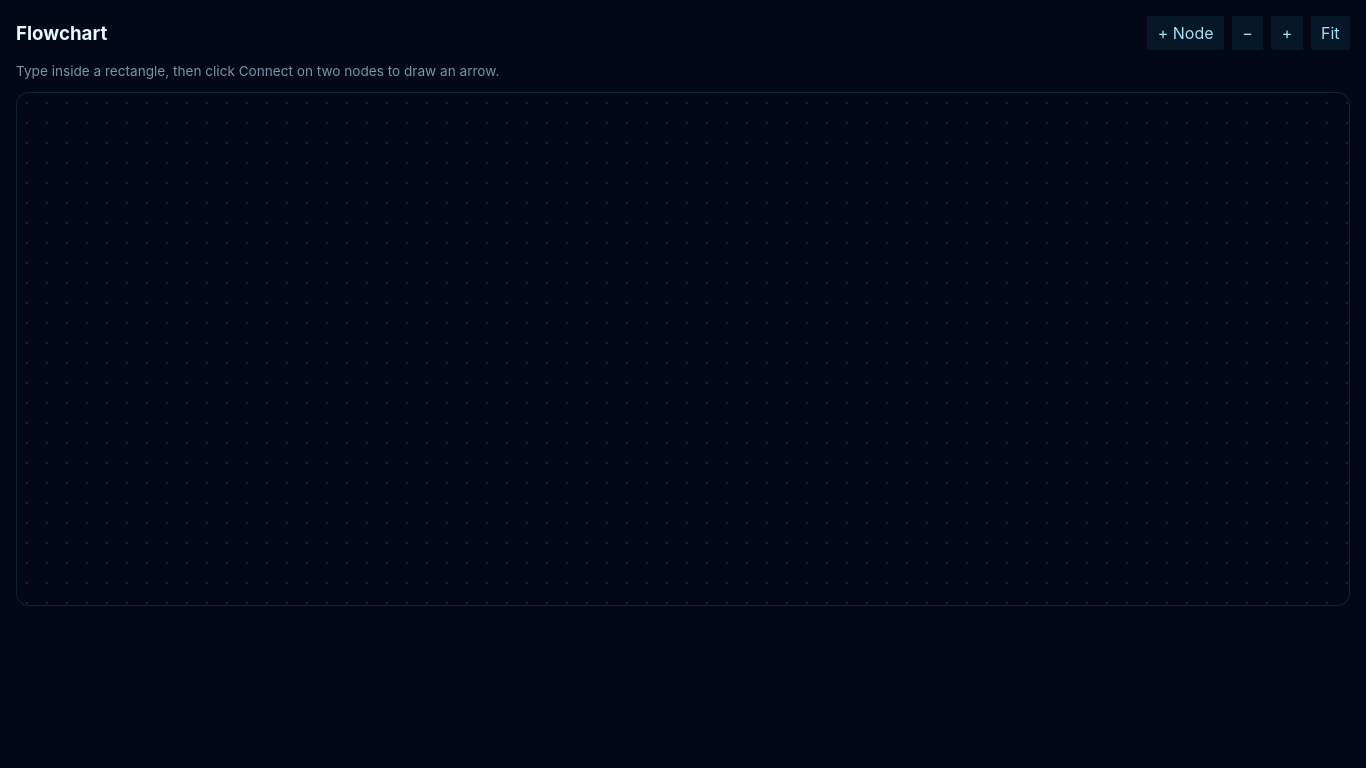
Test: project workspace modes › persists one flowchart node description across its compact and full-page editors
Click the button "+ Node" at (1186, 33), box [1147, 16, 1224, 50]
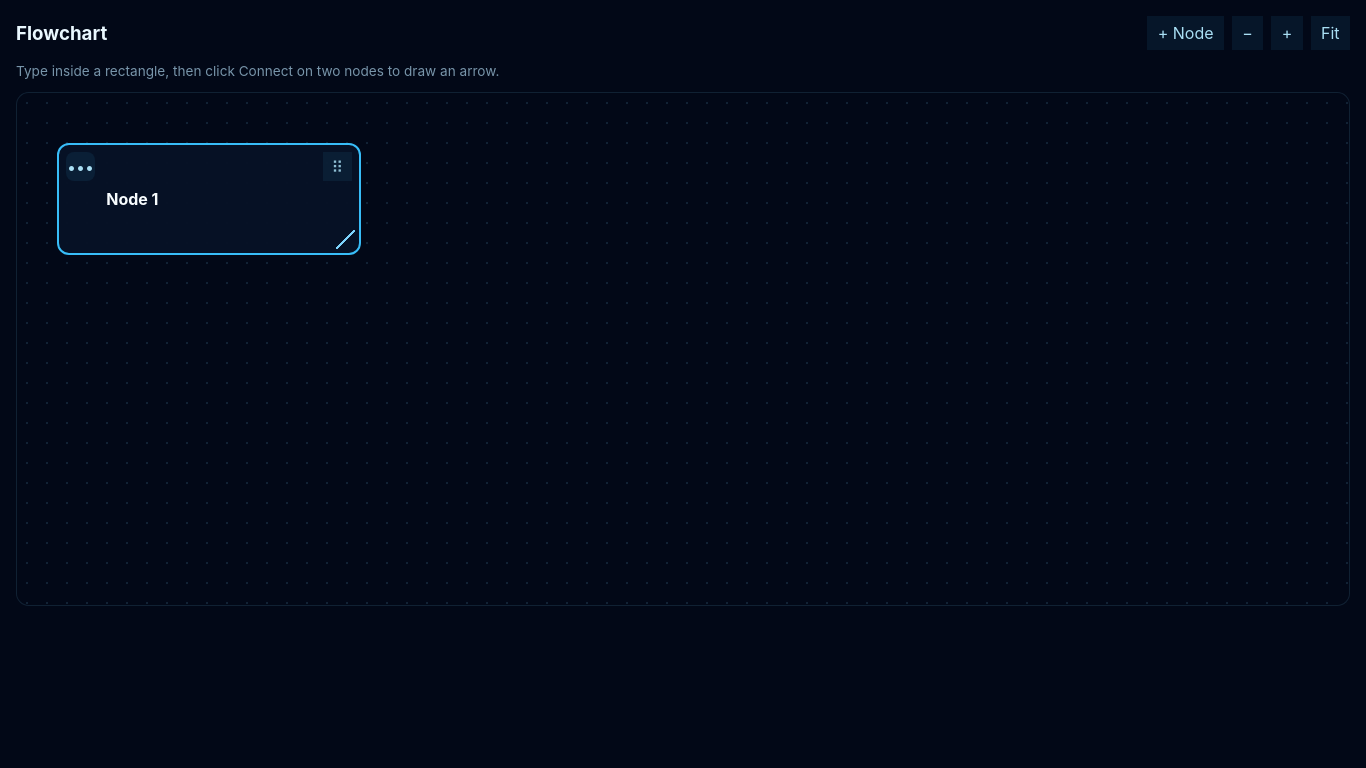
Click the button named "Options for Node 1" at (81, 167), box [66, 152, 95, 181]
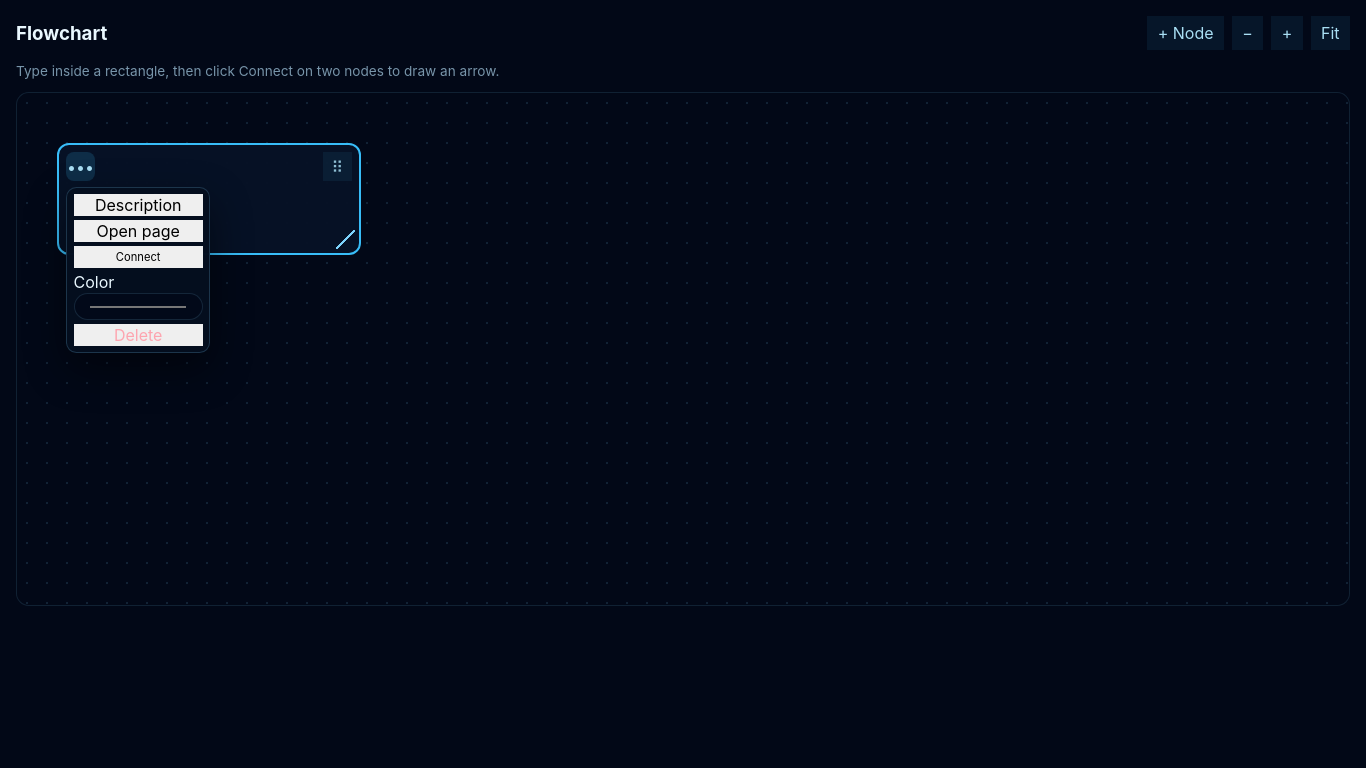
Click the menu item "Description" at (138, 205), box [74, 194, 203, 216]
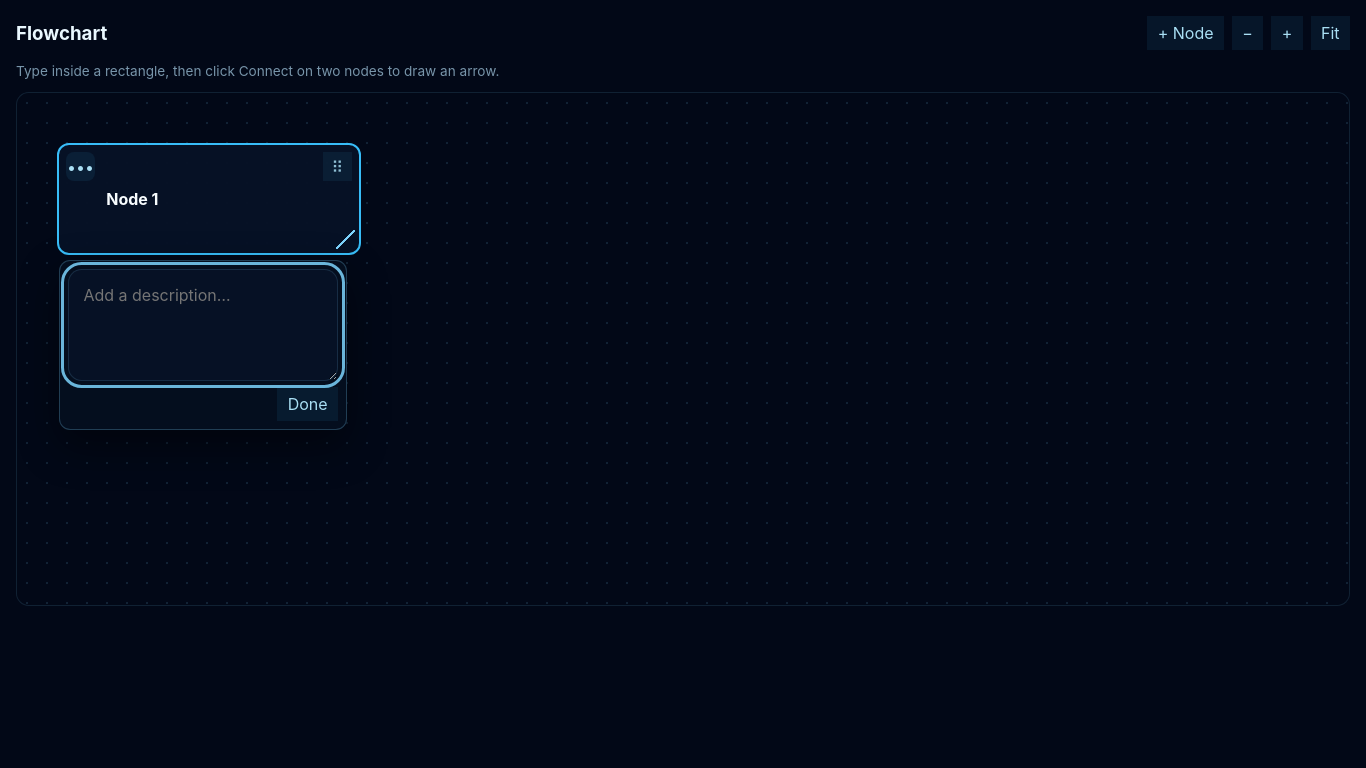
Type "Shared node context" into the text box named "Node 1 description" at (203, 325), box [68, 269, 338, 381]
Click the button "Done" at (308, 404), box [277, 387, 338, 421]
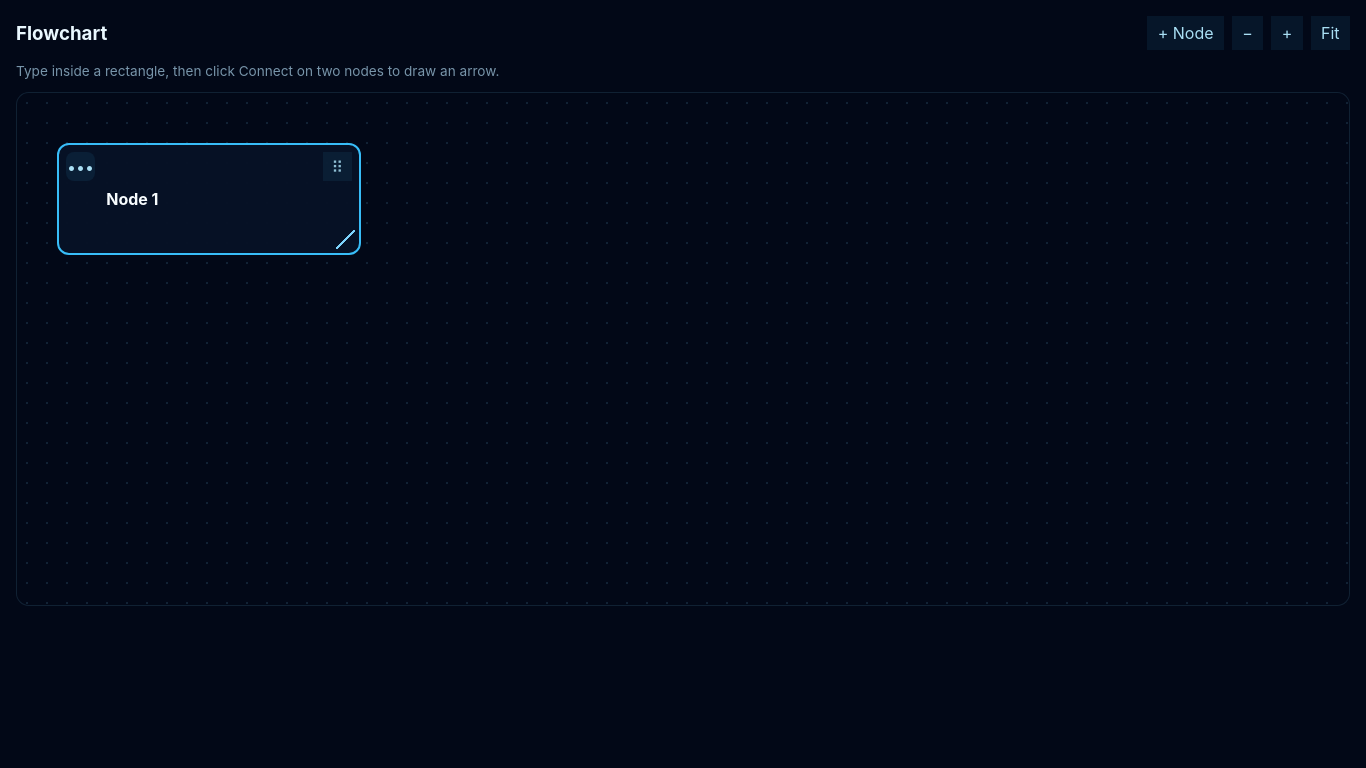
Click the button named "Options for Node 1" at (81, 167), box [66, 152, 95, 181]
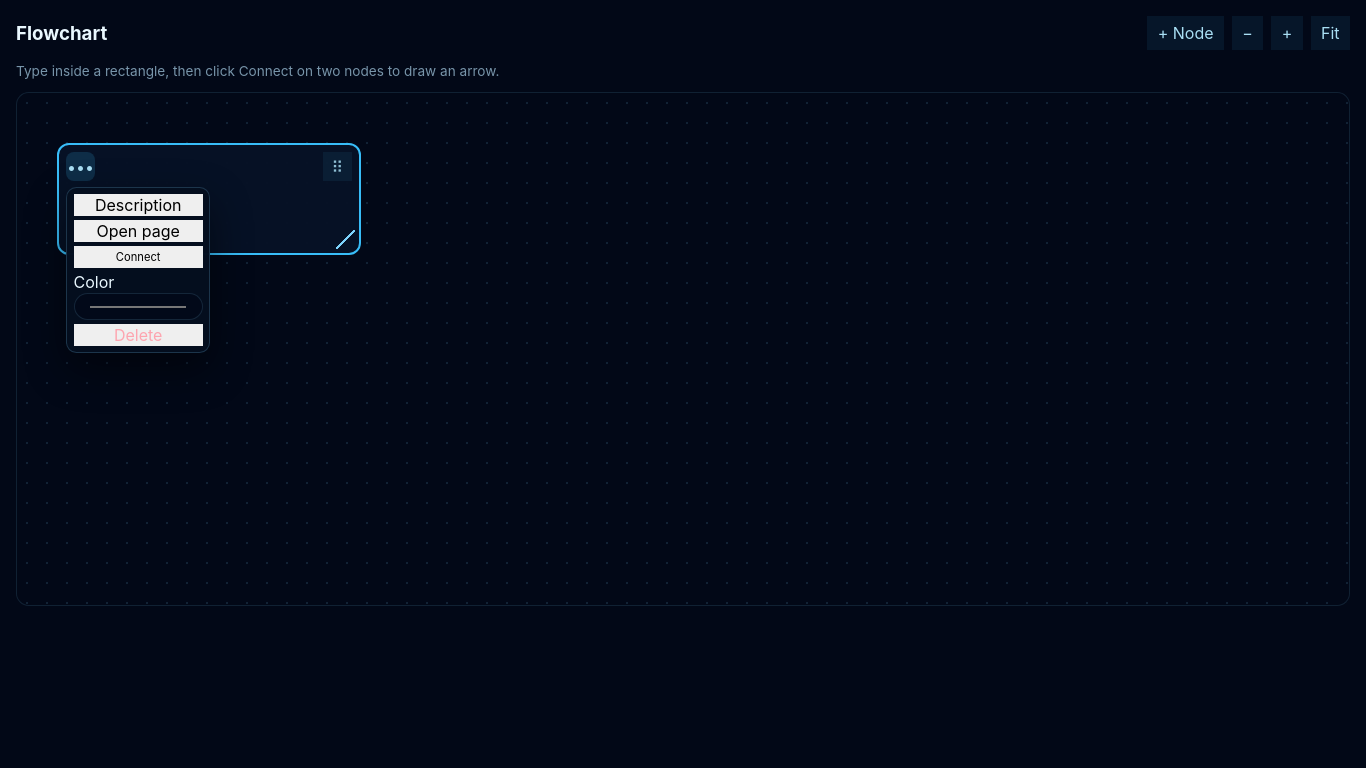
Click the menu item "Open page" at (138, 231), box [74, 220, 203, 242]
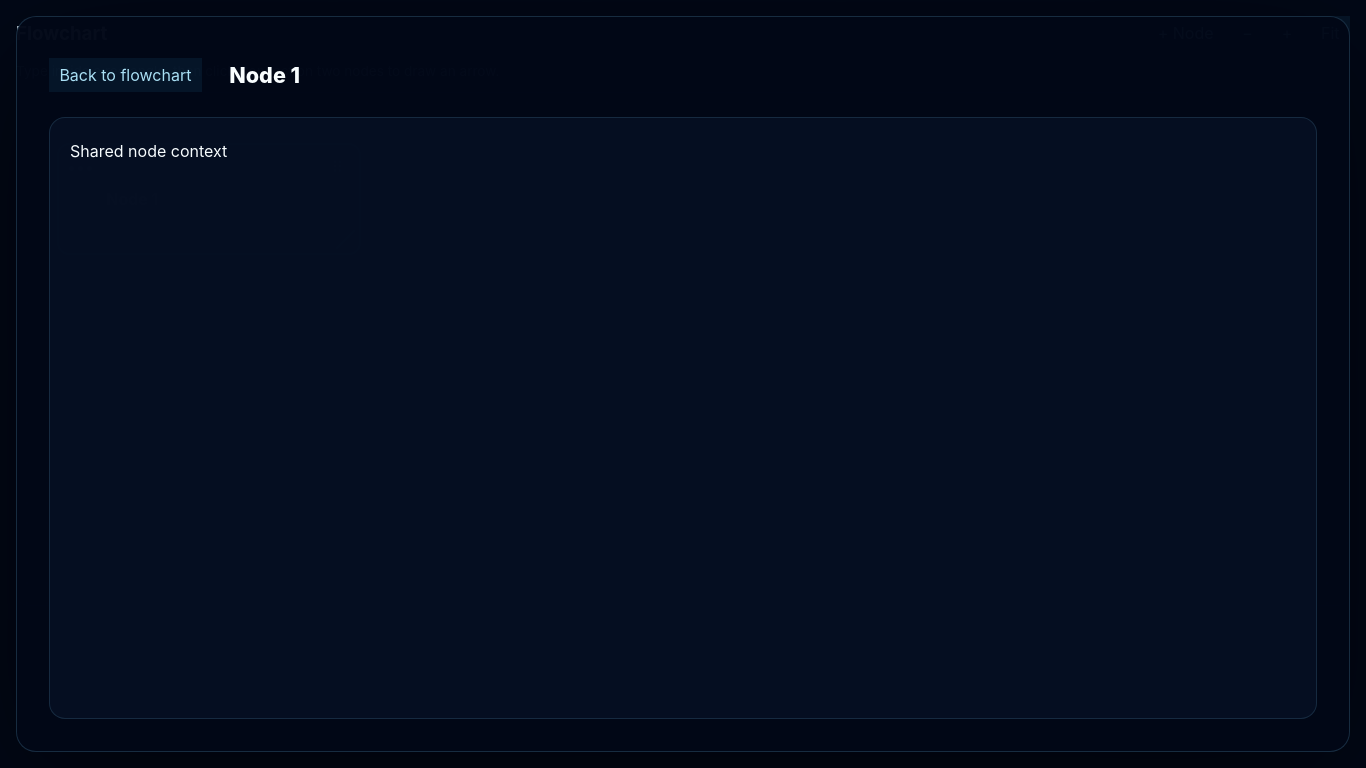
expect the text box named "Node 1 page content" holds "Shared node context": met
